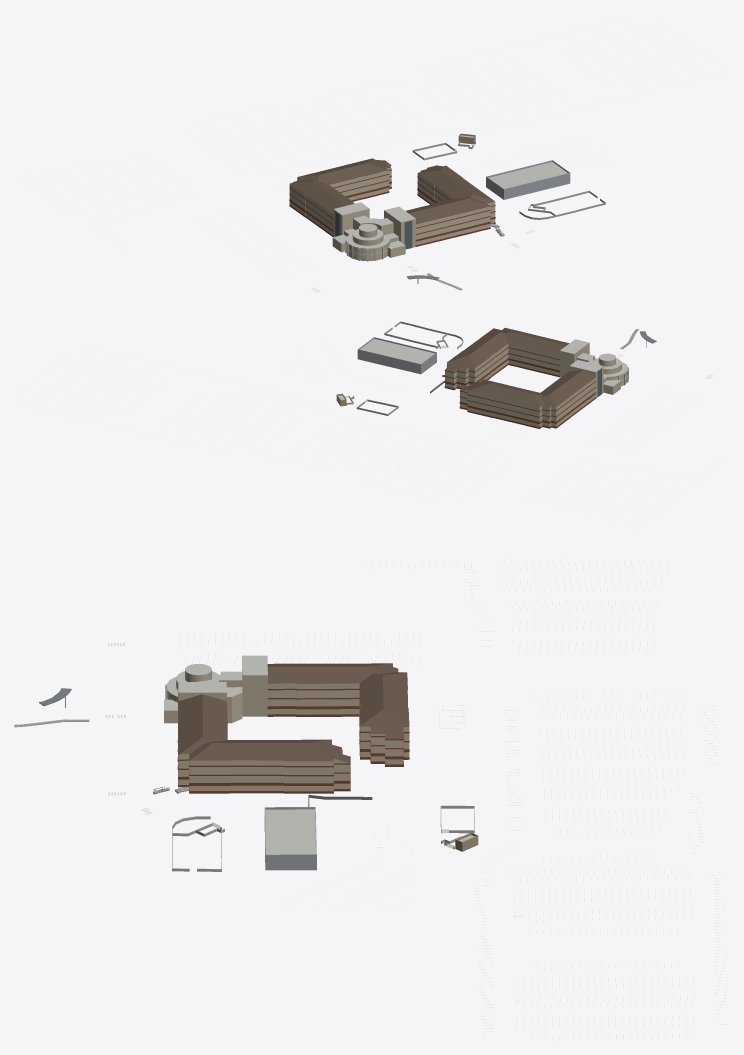
Rendered from D--2--2.L1.cce3c302.glb.
The picture shows the model from 3 angles, top to bottom: view 1: azimuth 30°, elevation 25°; view 2: azimuth 150°, elevation 25°; view 3: azimuth 270°, elevation 25°; orthographic projection. The views are drawn at different scales.
Visible parts, largest first — view 1: D--2--2.L1:utd:matte:flat, D--2--2.L1:utd:metal:flat, D--2--2.L1:utd:paint:flat; view 2: D--2--2.L1:utd:matte:flat, D--2--2.L1:utd:metal:flat, D--2--2.L1:utd:paint:flat; view 3: D--2--2.L1:utd:matte:flat, D--2--2.L1:utd:paint:flat, D--2--2.L1:utd:metal:flat.
Part boxes in pixels (box(x1,y1,x2,y2)): D--2--2.L1:utd:matte:flat: box(289, 133, 605, 290); D--2--2.L1:utd:metal:flat: box(406, 160, 570, 283); D--2--2.L1:utd:paint:flat: box(55, 14, 717, 292); D--2--2.L1:utd:matte:flat: box(336, 321, 638, 428); D--2--2.L1:utd:metal:flat: box(357, 331, 656, 374); D--2--2.L1:utd:paint:flat: box(23, 338, 721, 527); D--2--2.L1:utd:matte:flat: box(14, 655, 478, 871); D--2--2.L1:utd:paint:flat: box(105, 559, 727, 1040); D--2--2.L1:utd:metal:flat: box(39, 688, 316, 870).
Bounding box in the file's own units: 433 × 21.06 × 279.
